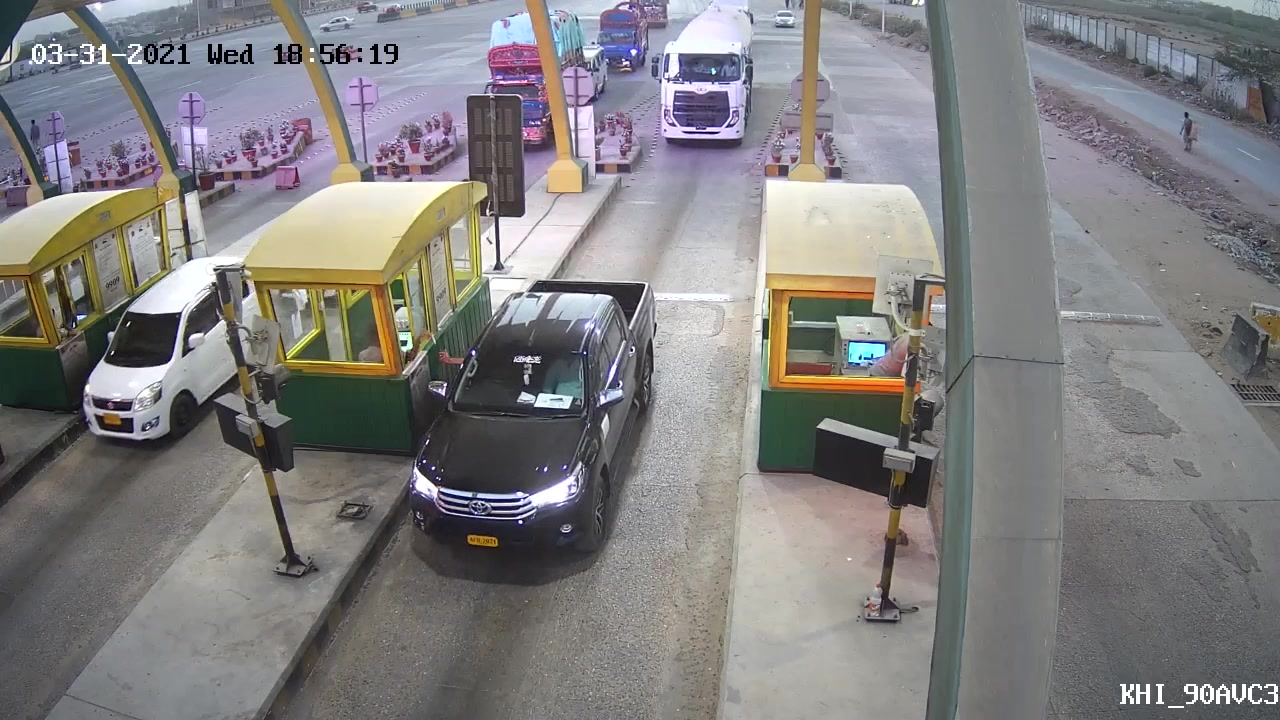F1: (393, 275, 657, 554)
